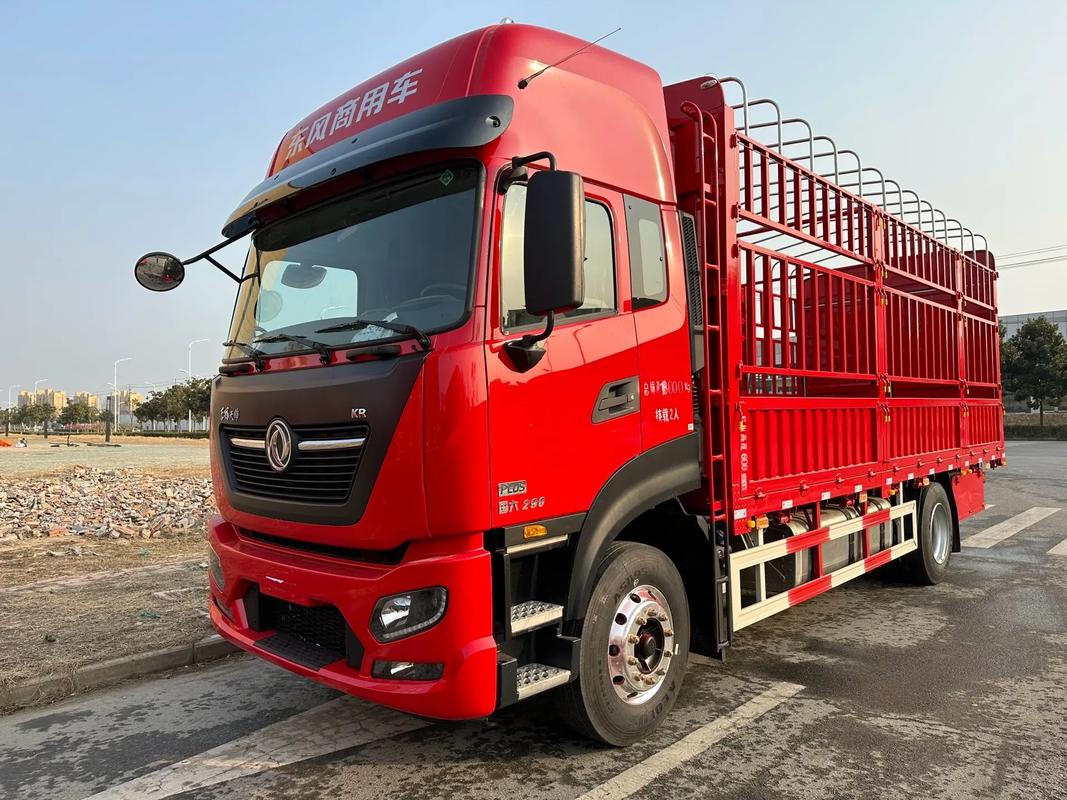卡车: (131, 23, 1023, 748)
